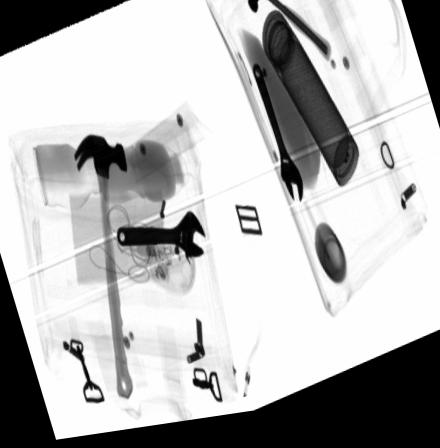Hammer: (72, 136, 132, 404), (247, 0, 331, 73)
Wrench: (252, 68, 301, 213), (114, 217, 206, 264)
